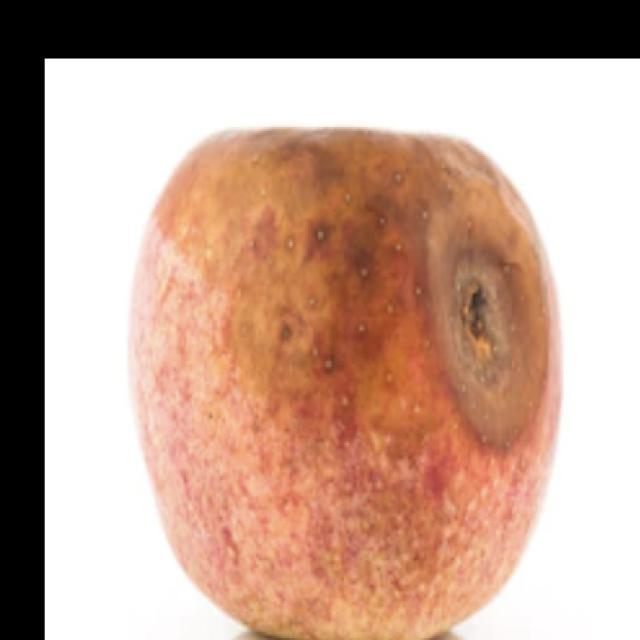Rotten: (134, 126, 561, 640)
